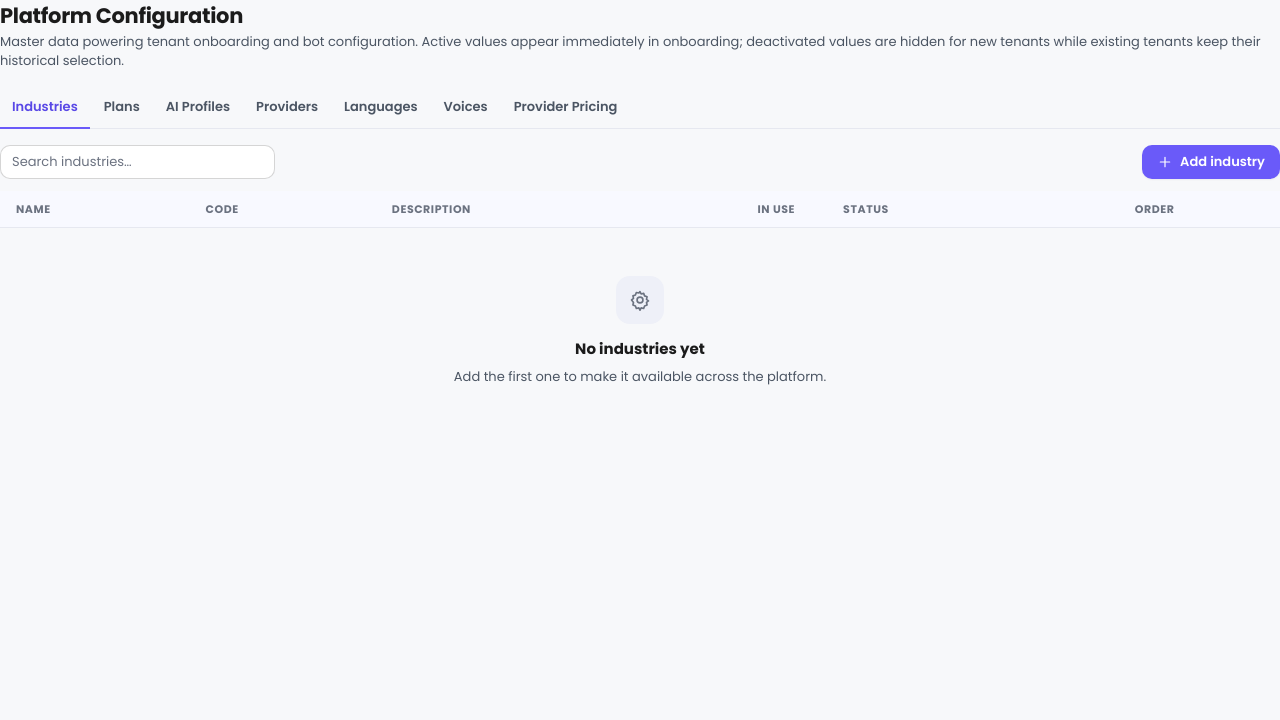
PlatformConfig — Add Plan form › numeric fields reject typed negatives and use min=0
Step 1. Click the tab "Plans" → (122, 108), box left=92, top=86, right=152, bottom=128
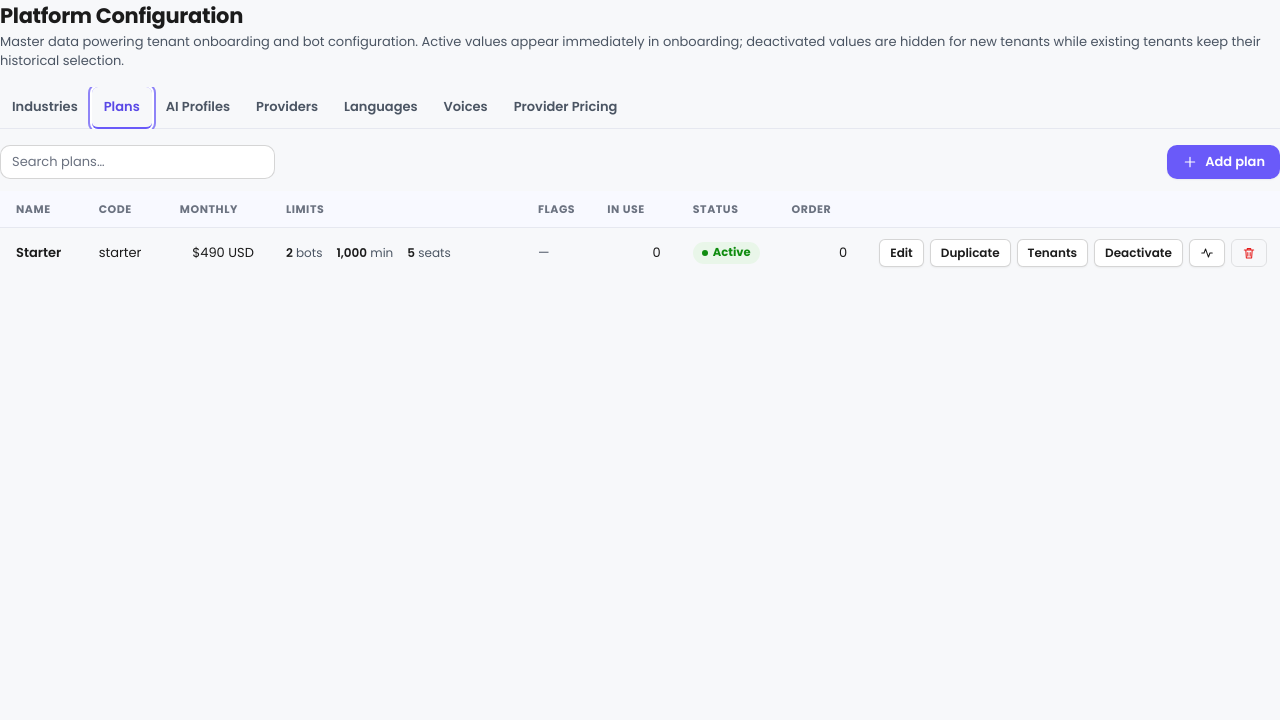
Step 2. Click the button "Add plan" → (1224, 162), box left=1167, top=144, right=1279, bottom=178
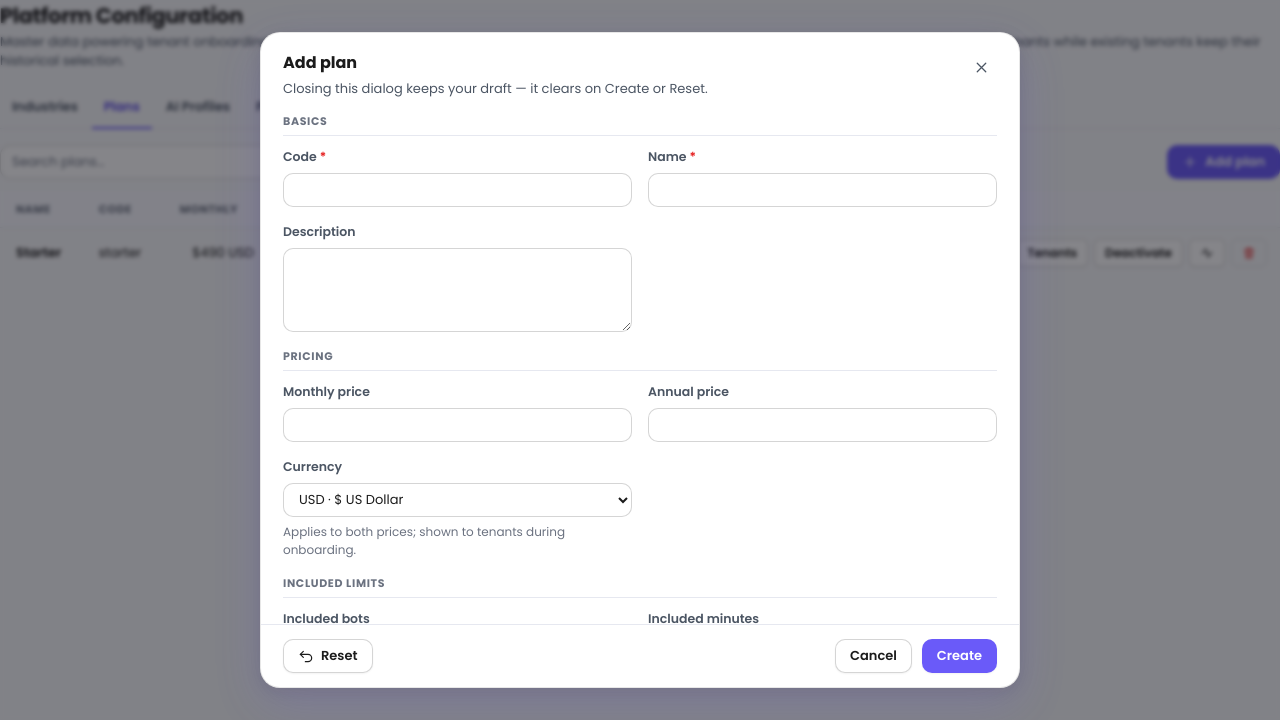
Now the dialog "Add plan" is shown, box left=260, top=32, right=1020, bottom=688
Step 3. Type "-42" into the number field labelled "Monthly price" → (458, 425), box left=283, top=408, right=632, bottom=442
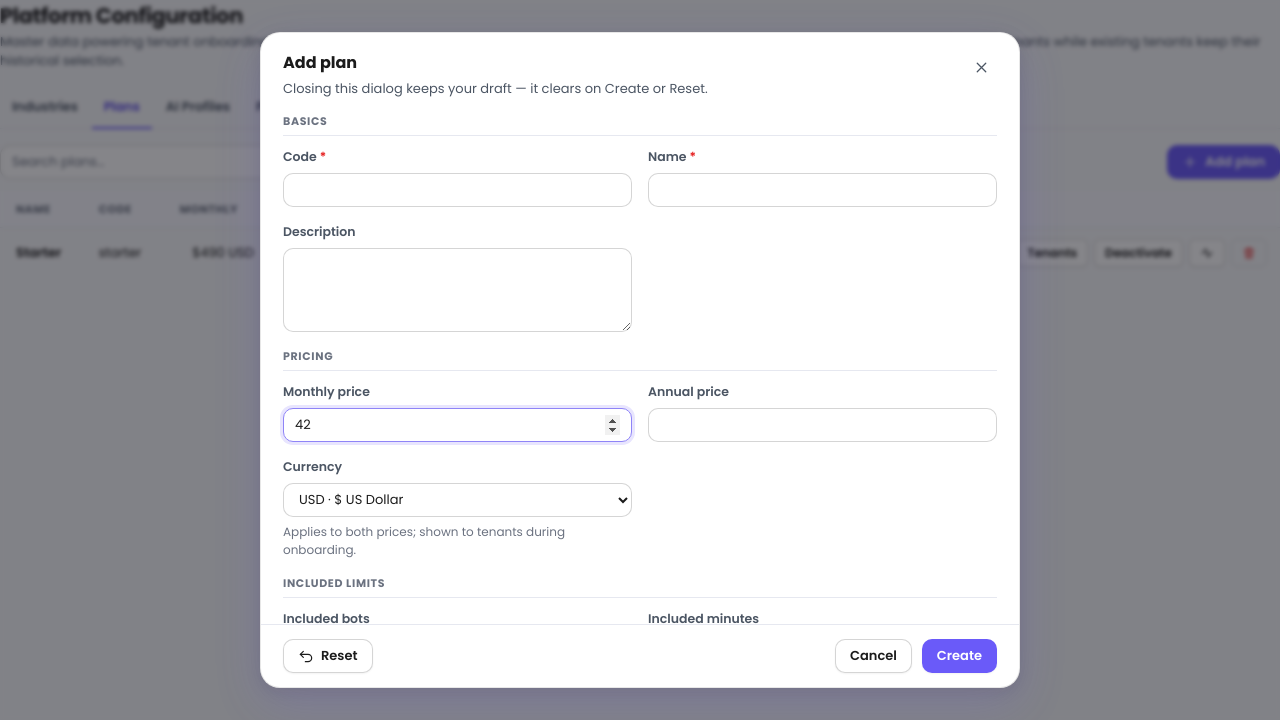
Now the number field labelled "Monthly price" holds "42", box left=283, top=408, right=632, bottom=442
